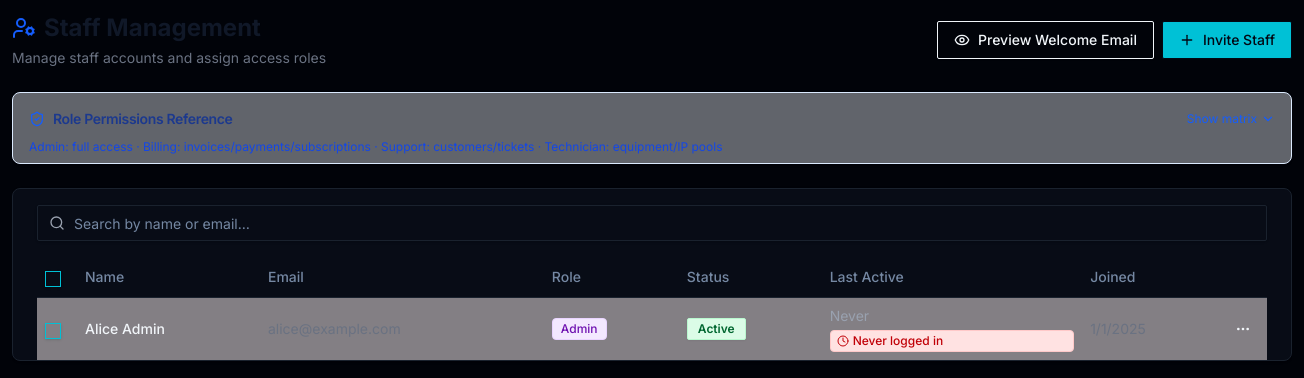
Test: Staff page — Last Active column: no sessions › explains the absence of sessions in a styled tooltip on hover
This screenshot has width=1304, height=378.
Hover over the text "Never" at point(849, 315), box [830,306,869,324]
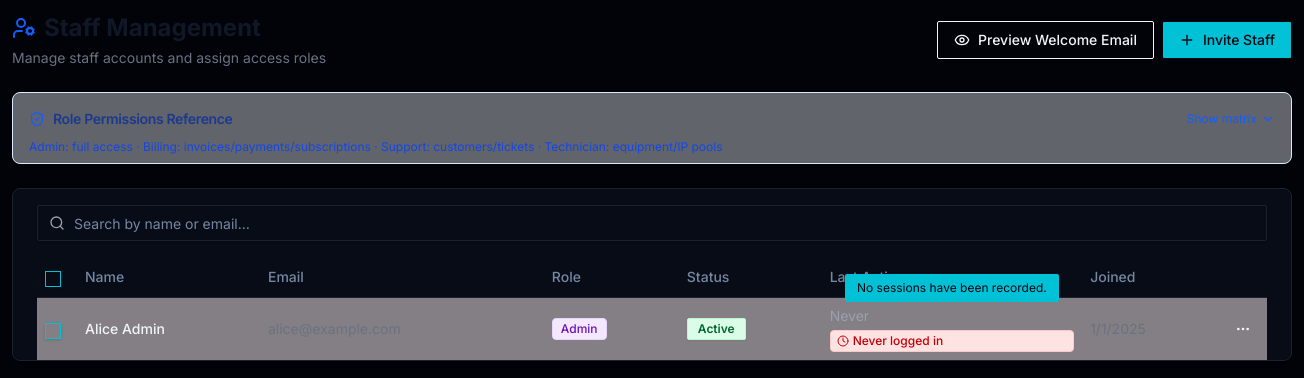
Now the tooltip reads "No sessions have been recorded.", box [857,280,1047,295]
